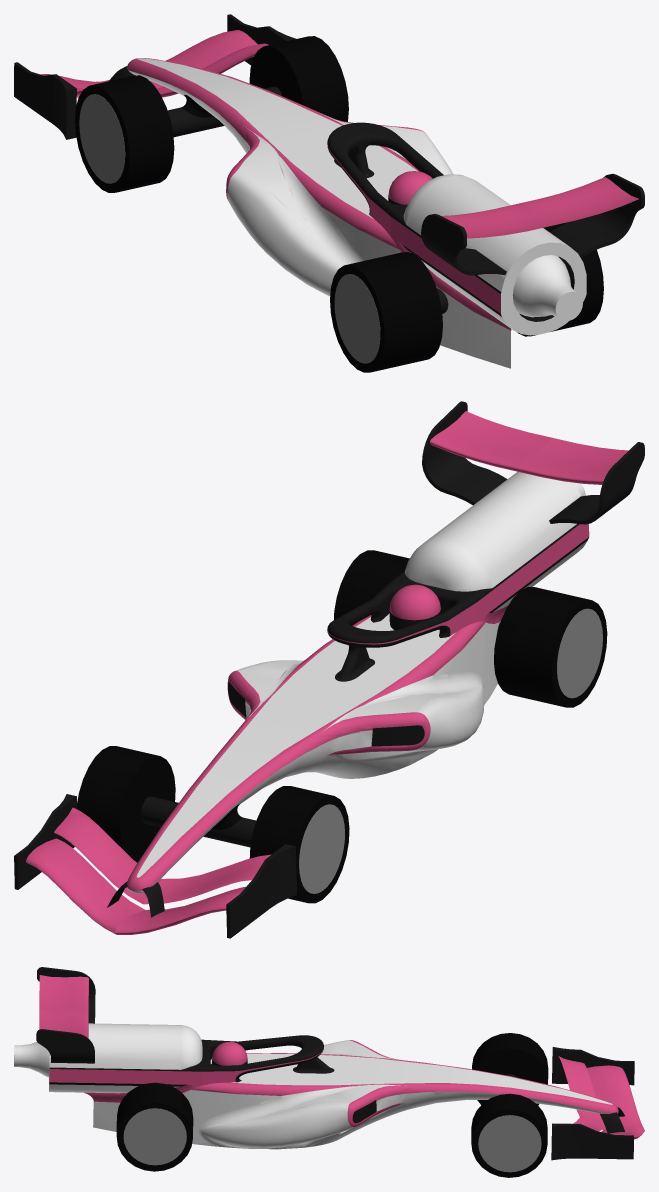
Rendered from Showcar with Livery with rims.glb.
3 views of the same model, one above another, from view 1: azimuth 30°, elevation 25°; view 2: azimuth 150°, elevation 25°; view 3: azimuth 270°, elevation 25° (orthographic). The views are drawn at different scales.
Visible parts, largest first — view 1: Body2_face229.001_Body2_face229.002; view 2: Body2_face229.001_Body2_face229.002; view 3: Body2_face229.001_Body2_face229.002.
Part boxes in pixels (x1,y1,x2,y2): Body2_face229.001_Body2_face229.002: (14, 14, 644, 372); Body2_face229.001_Body2_face229.002: (14, 401, 644, 938); Body2_face229.001_Body2_face229.002: (14, 967, 644, 1177).
Bounding box in the file's own units: 0.9377 × 0.8083 × 3.21.
